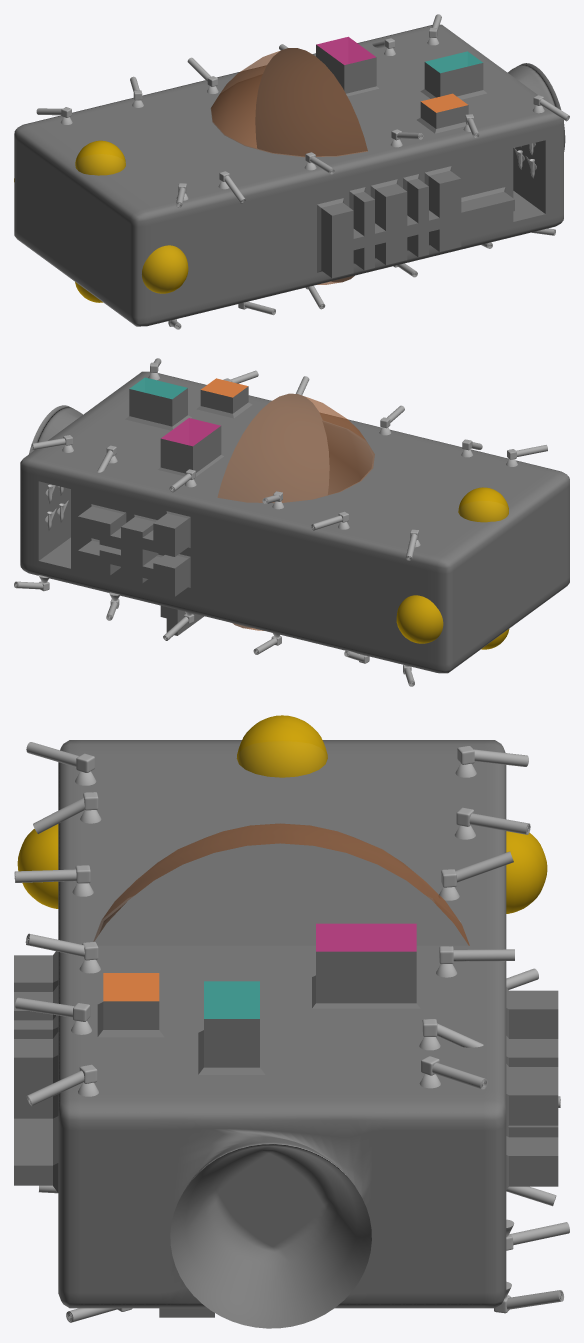
Rendered from Donnager.fbx.
The picture shows the model from 3 angles, top to bottom: view 1: azimuth 30°, elevation 25°; view 2: azimuth 150°, elevation 25°; view 3: azimuth 270°, elevation 25°; orthographic projection. The views are drawn at different scales.
Visible parts, largest first — view 1: pCube2, pSphere2, pasted__pSphere1, pSphere1; view 2: pCube2, pSphere2, pasted__pSphere1, pSphere1; view 3: pCube2, pSphere2, pasted__pSphere1 (×2), pSphere1, pasted__pasted__pasted__pCylinder2 (×2), pasted__pasted__pCylinder2 (×2).
Part boxes in pixels (bbox=[...]): pCube2: bbox=[14, 24, 565, 326]; pSphere2: bbox=[211, 48, 367, 284]; pasted__pSphere1: bbox=[142, 245, 188, 293]; pSphere1: bbox=[75, 140, 125, 175]; pCube2: bbox=[20, 371, 569, 673]; pSphere2: bbox=[217, 393, 374, 630]; pasted__pSphere1: bbox=[396, 595, 443, 643]; pSphere1: bbox=[458, 487, 508, 522]; pCube2: bbox=[14, 740, 558, 1328]; pSphere2: bbox=[94, 823, 469, 945]; pasted__pSphere1 (×2): bbox=[17, 824, 547, 913]; pSphere1: bbox=[236, 715, 327, 777]; pasted__pasted__pasted__pCylinder2 (×2): bbox=[453, 813, 530, 961]; pasted__pasted__pCylinder2 (×2): bbox=[14, 869, 84, 1106].
Bounding box in the file's own units: 20.7 × 9.38 × 12.14.
